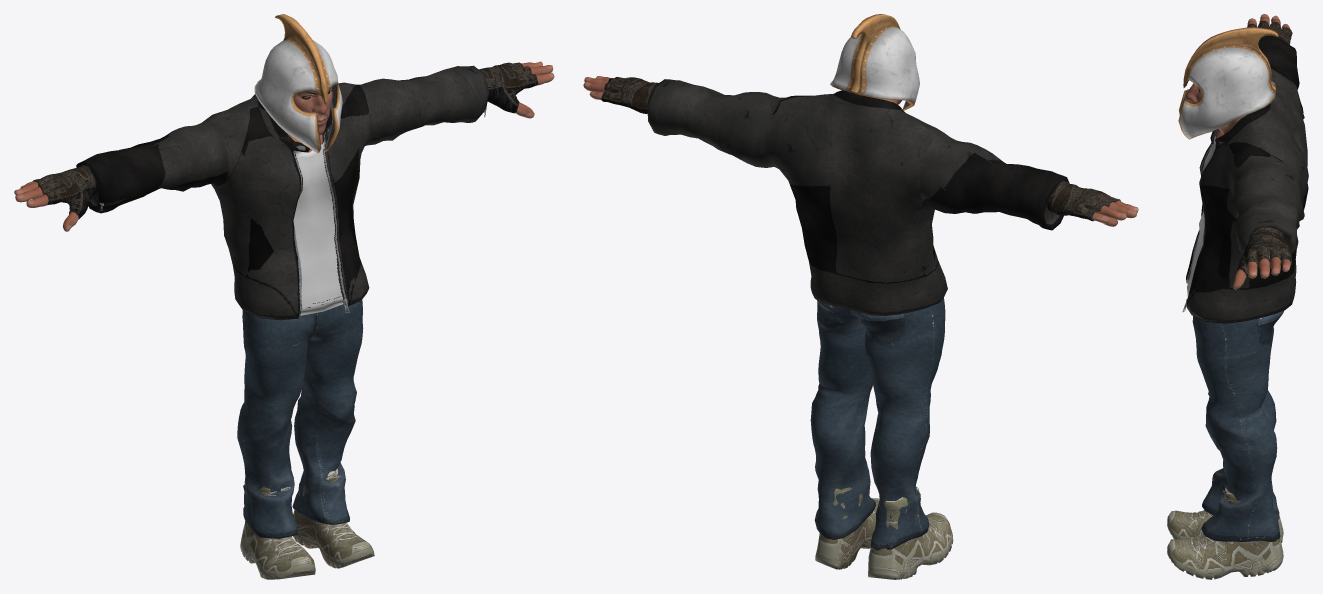
Rendered from testChar.obj.
The picture shows the model from 3 angles, left to right: view 1: azimuth 30°, elevation 25°; view 2: azimuth 150°, elevation 25°; view 3: azimuth 270°, elevation 25°; orthographic projection. The views are drawn at different scales.
Visible parts, largest first — view 1: Tops, Bottoms, Hats, Shoes, Gloves, Body; view 2: Tops, Bottoms, Hats, Shoes, Gloves, Body; view 3: Tops, Bottoms, Hats, Shoes, Gloves, Body.
Part boxes in pixels (x1,y1,x2,y2): Tops: (76,65,489,320); Bottoms: (237,299,363,538); Hats: (254,14,342,153); Shoes: (240,468,374,579); Gloves: (32,62,538,219); Body: (14,61,554,231); Tops: (647,79,1069,315); Bottoms: (810,298,945,550); Hats: (830,14,919,110); Shoes: (815,486,953,579); Gloves: (601,77,1120,221); Body: (583,76,1138,226); Tops: (1182,36,1308,323); Bottoms: (1192,311,1283,541); Hats: (1178,27,1278,139); Shoes: (1167,470,1283,579); Gloves: (1237,21,1292,277); Body: (1185,14,1290,289).
Bounding box in the file's own units: 239 × 226 × 55.05.
6 materials, 6 textured.
